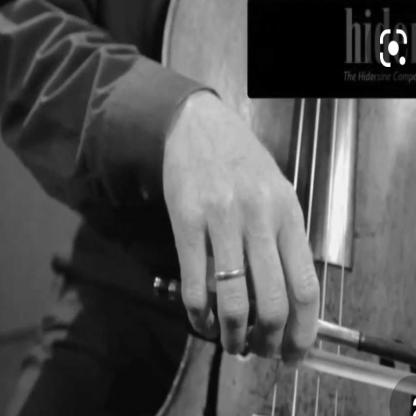good: (154, 88, 329, 378)
